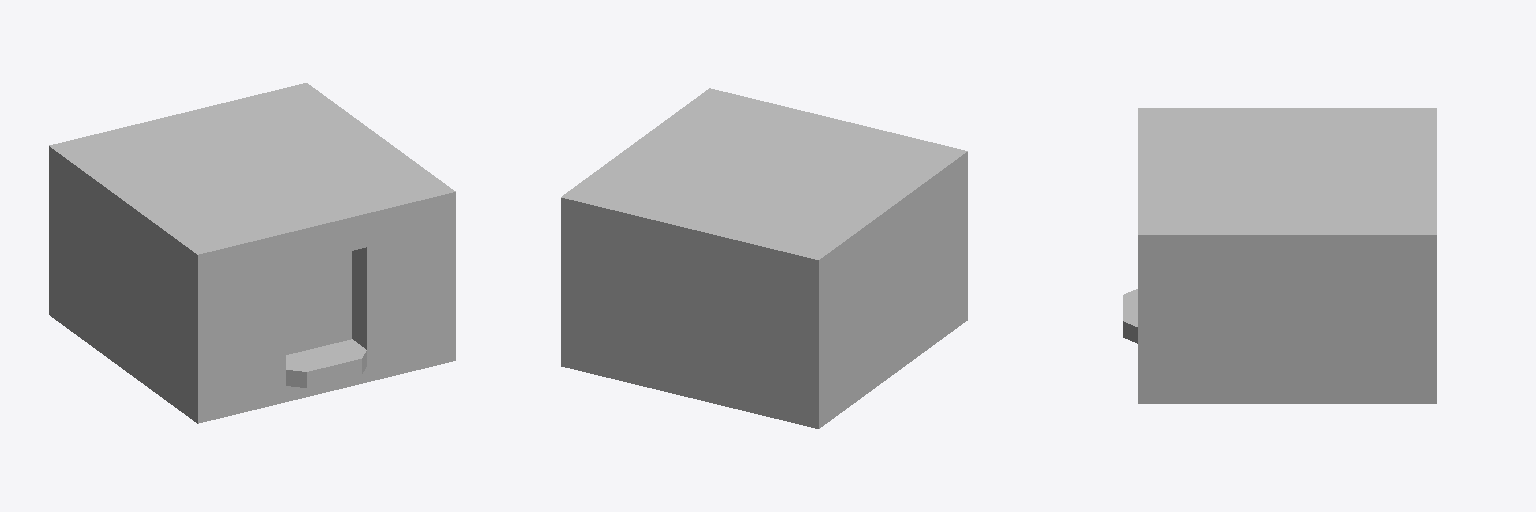
Rendered from building-window-sill.obj.
3 views of the same model, side by side, from view 1: azimuth 30°, elevation 25°; view 2: azimuth 150°, elevation 25°; view 3: azimuth 270°, elevation 25° (orthographic).
Parts seen in each view (by area): view 1: building-window-sill; view 2: building-window-sill; view 3: building-window-sill.
Boxes of the visible parts, box(x1,y1,x2,y2) form: building-window-sill: box(49, 83, 455, 423); building-window-sill: box(561, 88, 967, 428); building-window-sill: box(1123, 108, 1436, 403).
Bounding box in the file's own units: 1 × 0.625 × 1.05.